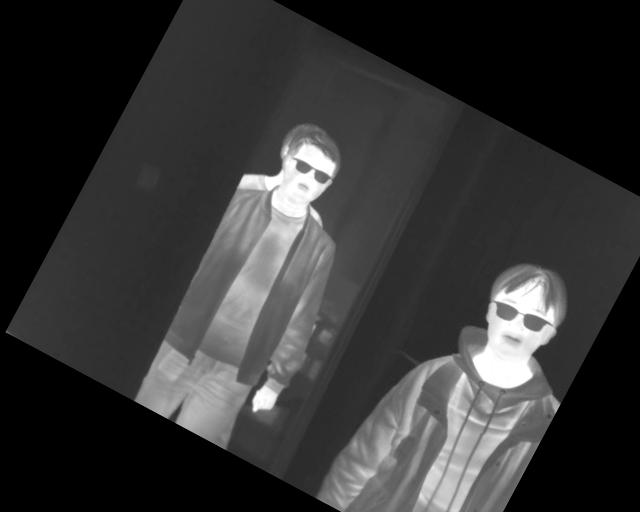face: (465, 248, 583, 375), (265, 119, 352, 214)
